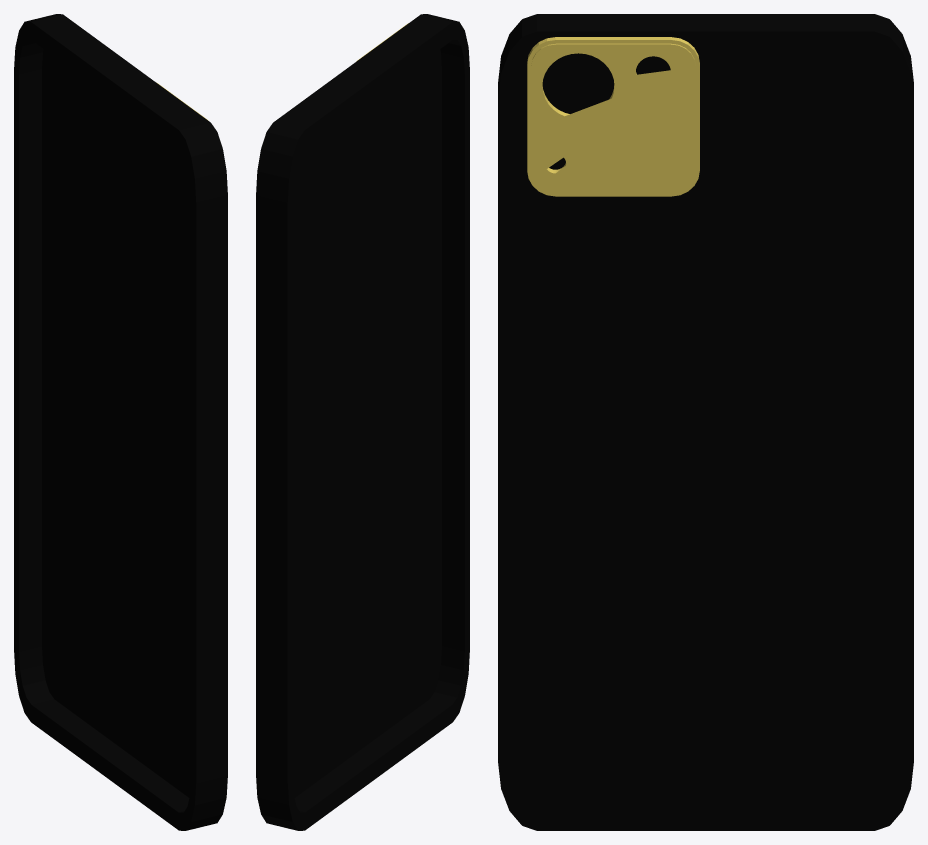
File: caase.fbx
The picture shows the model from 3 angles, left to right: view 1: azimuth 30°, elevation 25°; view 2: azimuth 150°, elevation 25°; view 3: azimuth 270°, elevation 25°; orthographic projection. The views are drawn at different scales.
Visible parts, largest first — view 1: Cube.011; view 2: Cube.011; view 3: Cube.011.
Boxes of the visible parts, x1=… form: Cube.011: x1=14, y1=14, x2=227, y2=830; Cube.011: x1=256, y1=14, x2=469, y2=830; Cube.011: x1=498, y1=14, x2=913, y2=830.
Bounding box in the file's own units: 26.54 × 463 × 218.
